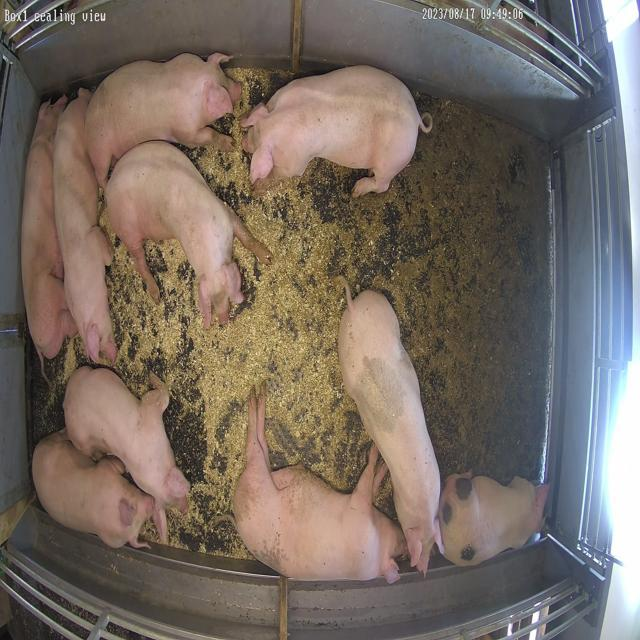Dirt: (293, 90, 552, 490)
Pig: (233, 395, 407, 584), (105, 141, 271, 328), (339, 290, 442, 576), (241, 65, 433, 196), (63, 368, 190, 542), (86, 52, 241, 186), (54, 89, 116, 362), (20, 96, 76, 358), (32, 432, 154, 549), (441, 474, 550, 568)
